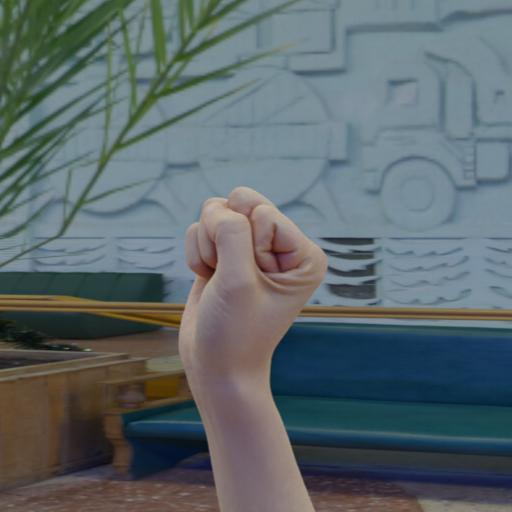S: (141, 175, 346, 404)
